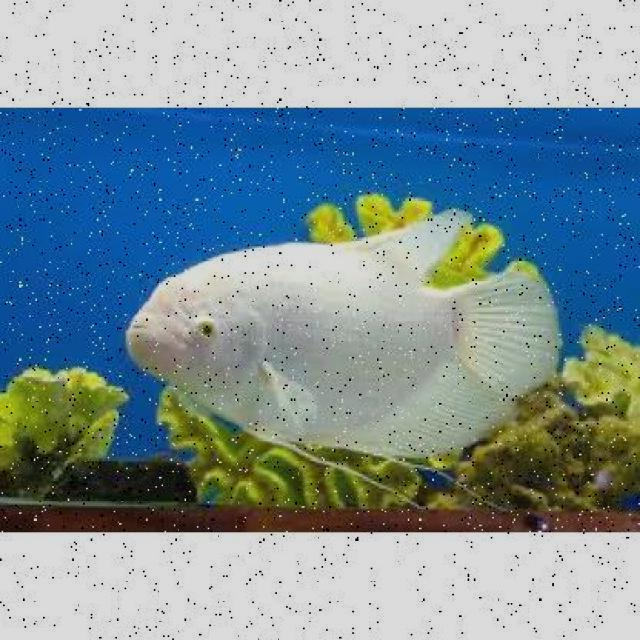gurame: (124, 218, 550, 450)
